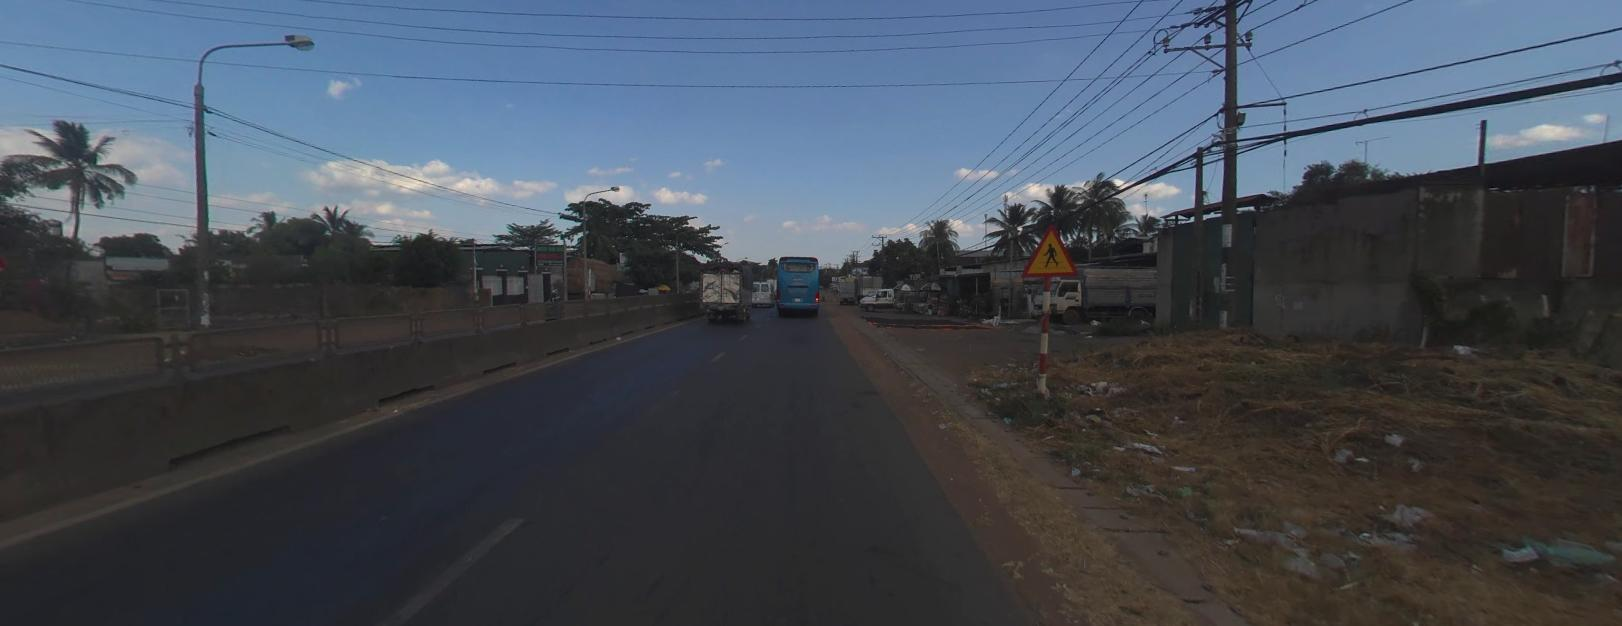Nguy hiem: (1021, 222, 1077, 276)
